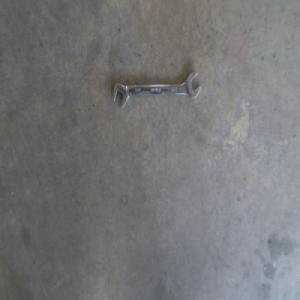Wrench: (111, 72, 202, 110)
